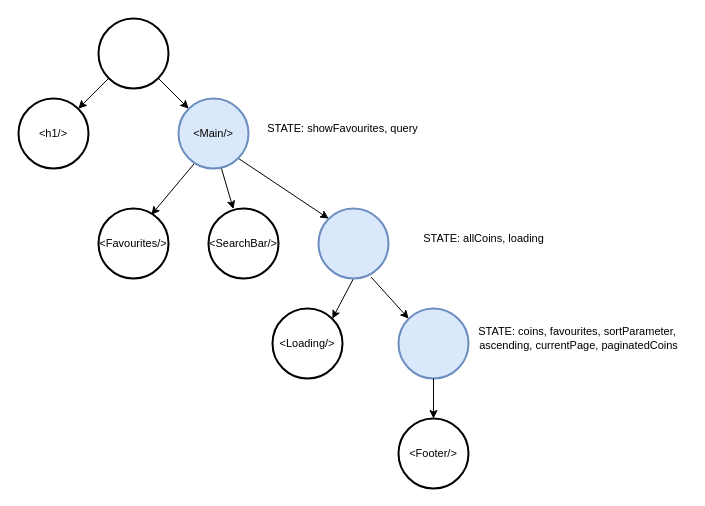
This 705x506 diagram has some shape labels left out. Here are the shapes that lost their labels. From the top down, the box of each, then its label:
(97, 17, 169, 89): <App/>
(317, 207, 389, 279): <CoinsList/>
(397, 307, 469, 379): <Table/>
